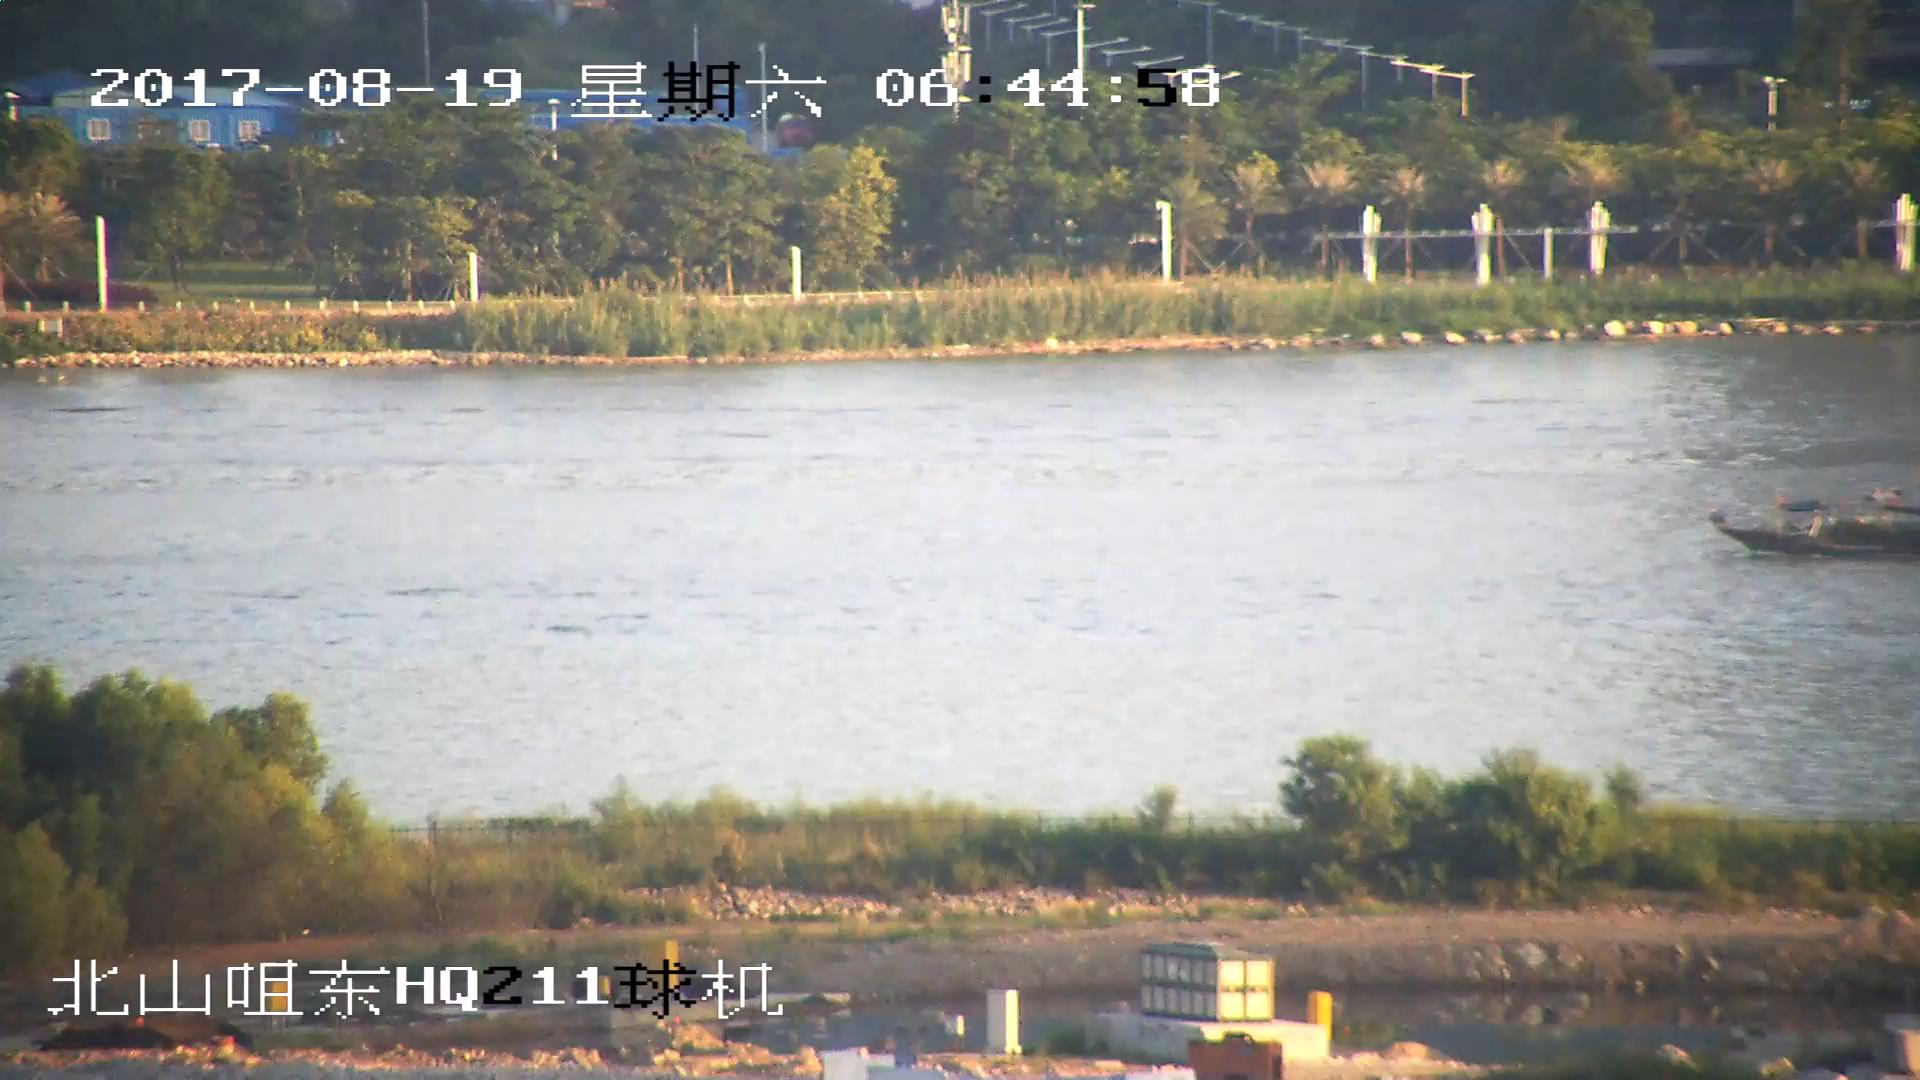fishing boat: (1710, 488, 1920, 557)
